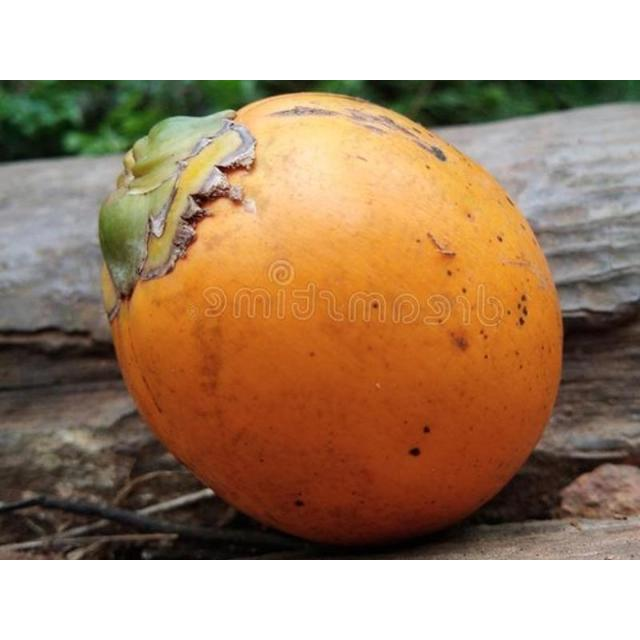good: (96, 91, 565, 551)
